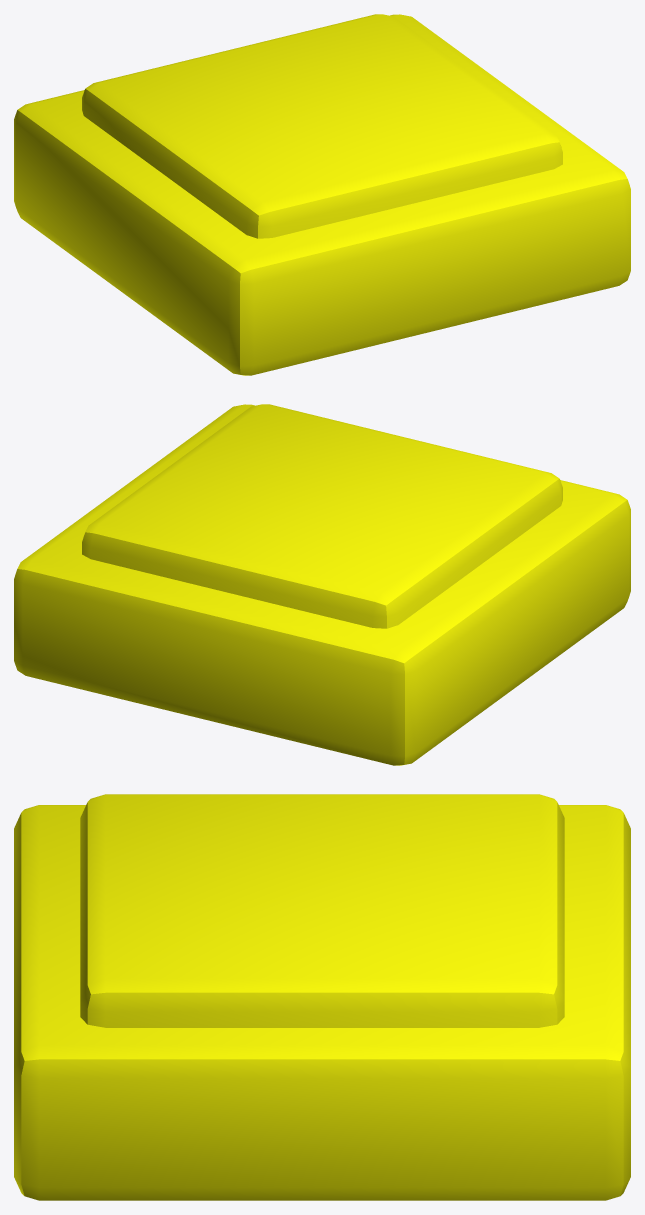
Rendered from Button_Pressed.glb.
3 renders of one model, top to bottom at view 1: azimuth 30°, elevation 25°; view 2: azimuth 150°, elevation 25°; view 3: azimuth 270°, elevation 25°, orthographic. The views are drawn at different scales.
Visible parts, largest first — view 1: Button_Pressed; view 2: Button_Pressed; view 3: Button_Pressed.
Boxes of the visible parts, left/top/right/bottom form: Button_Pressed: left=14, top=14, right=630, bottom=375; Button_Pressed: left=14, top=404, right=630, bottom=765; Button_Pressed: left=14, top=794, right=630, bottom=1200.
Size of the model in its own units: 1.32 by 0.4569 by 1.32.
Materials: 1 (1 with a texture image).
